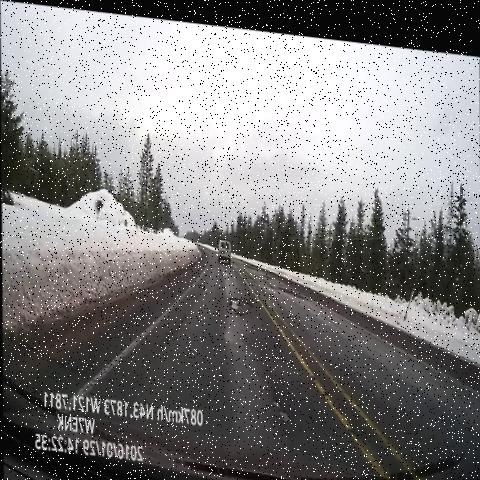pothole: (267, 371, 297, 429), (225, 280, 255, 322)
